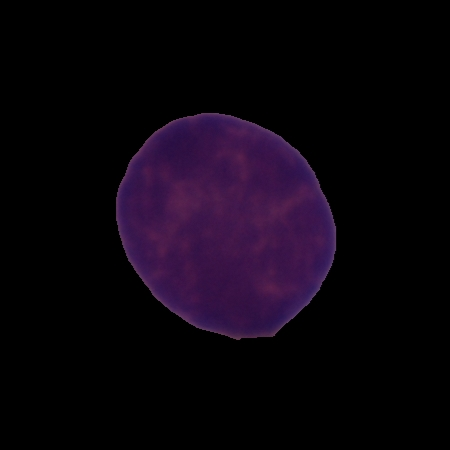ALL: (113, 110, 340, 343)
